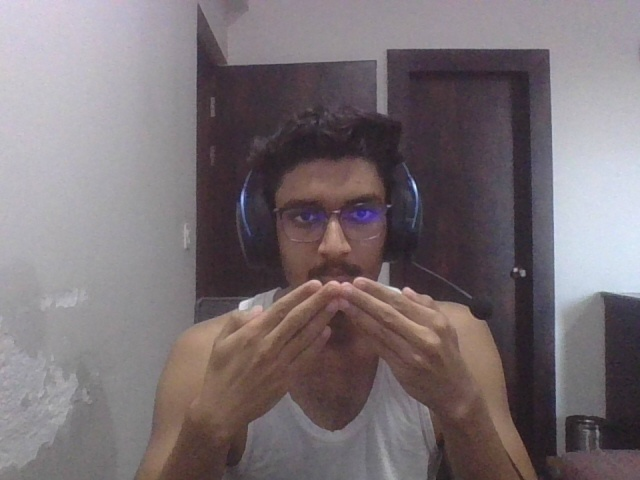Thanks: (193, 269, 485, 418)
